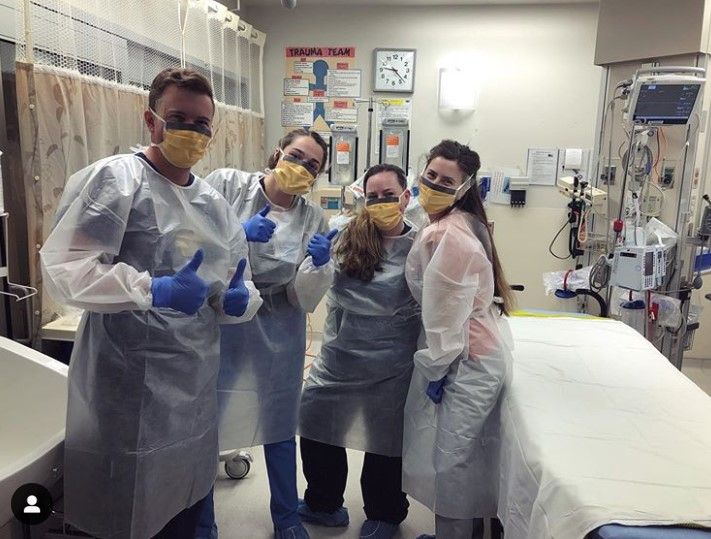face_with_mask: (144, 67, 214, 172), (418, 141, 479, 215), (270, 130, 330, 198), (361, 161, 410, 231)
